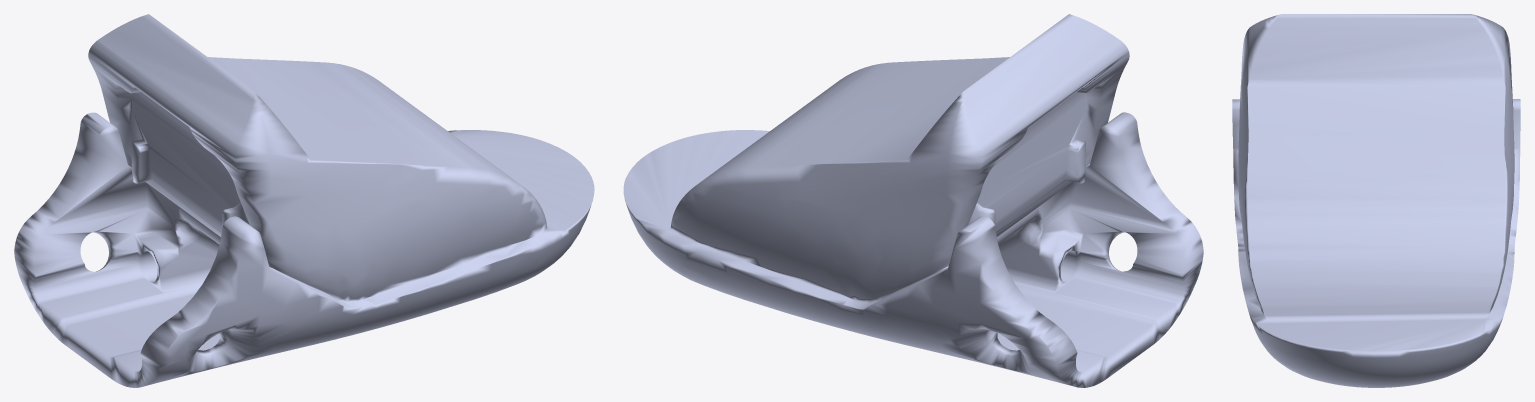
Rendered from right_DP_visual_HB1_4F_cad1ee.glb.
The picture shows the model from 3 angles, left to right: view 1: azimuth 30°, elevation 25°; view 2: azimuth 150°, elevation 25°; view 3: azimuth 270°, elevation 25°; orthographic projection. The views are drawn at different scales.
Visible parts, largest first — view 1: DP_visual_HB1_4F_0; view 2: DP_visual_HB1_4F_0; view 3: DP_visual_HB1_4F_0.
Part boxes in pixels (box(x1,y1,x2,y2)): DP_visual_HB1_4F_0: box(14, 14, 594, 387); DP_visual_HB1_4F_0: box(623, 14, 1203, 387); DP_visual_HB1_4F_0: box(1232, 14, 1520, 387).
Bounding box in the file's own units: 0.0266 × 0.0147 × 0.0153.
